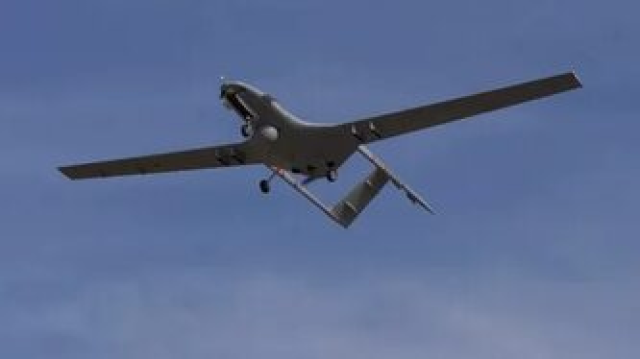military drone: (56, 70, 583, 228)
